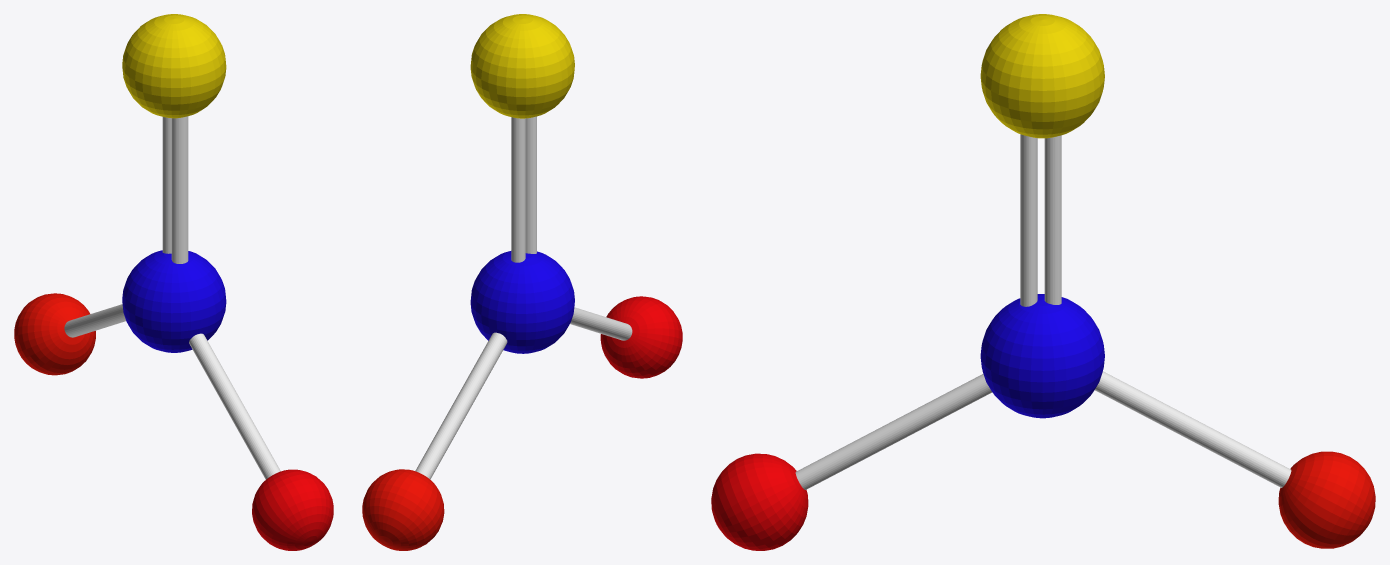
The picture shows the model from 3 angles, left to right: view 1: azimuth 30°, elevation 25°; view 2: azimuth 150°, elevation 25°; view 3: azimuth 270°, elevation 25°; orthographic projection. The views are drawn at different scales.
Visible parts, largest first — view 1: Sphere, Sphere.003, Sphere.002, Sphere.001, Cylinder, Cylinder.001, Cylinder.002, Cylinder.003; view 2: Sphere, Sphere.003, Sphere.001, Sphere.002, Cylinder.003, Cylinder.002, Cylinder.001, Cylinder; view 3: Sphere, Sphere.003, Sphere.001, Sphere.002, Cylinder.003, Cylinder, Cylinder.001, Cylinder.002.
Part boxes in pixels (left/top/right/bottom): Sphere: left=122, top=14, right=226, bottom=118; Sphere.003: left=122, top=250, right=226, bottom=352; Sphere.002: left=252, top=469, right=333, bottom=550; Sphere.001: left=14, top=293, right=95, bottom=375; Cylinder: left=189, top=333, right=280, bottom=479; Cylinder.001: left=171, top=116, right=188, bottom=263; Cylinder.002: left=162, top=117, right=171, bottom=253; Cylinder.003: left=64, top=304, right=125, bottom=337; Sphere: left=470, top=14, right=574, bottom=118; Sphere.003: left=470, top=251, right=574, bottom=353; Sphere.001: left=362, top=469, right=444, bottom=550; Sphere.002: left=600, top=296, right=682, bottom=378; Cylinder.003: left=415, top=332, right=507, bottom=479; Cylinder.002: left=511, top=117, right=525, bottom=262; Cylinder.001: left=525, top=116, right=536, bottom=253; Cylinder: left=570, top=307, right=632, bottom=340; Sphere: left=980, top=14, right=1104, bottom=138; Sphere.003: left=980, top=294, right=1104, bottom=418; Sphere.001: left=1278, top=451, right=1375, bottom=548; Sphere.002: left=711, top=453, right=808, bottom=550; Cylinder.003: left=1095, top=371, right=1291, bottom=487; Cylinder: left=795, top=374, right=992, bottom=489; Cylinder.001: left=1020, top=134, right=1037, bottom=306; Cylinder.002: left=1044, top=135, right=1061, bottom=304.
Size of the model in its own units: 1.8 by 8.4 by 9.6.
